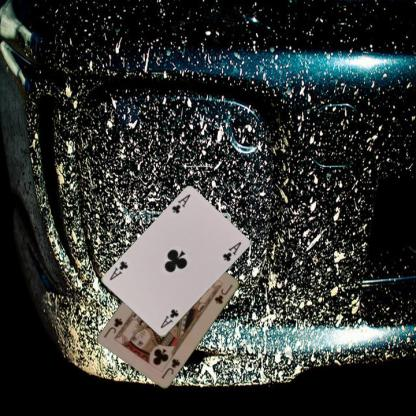Ac: (169, 192, 192, 215), (158, 307, 180, 330)
Jc: (159, 354, 181, 380)
